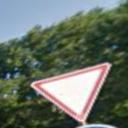preferencia: (30, 60, 114, 124)
